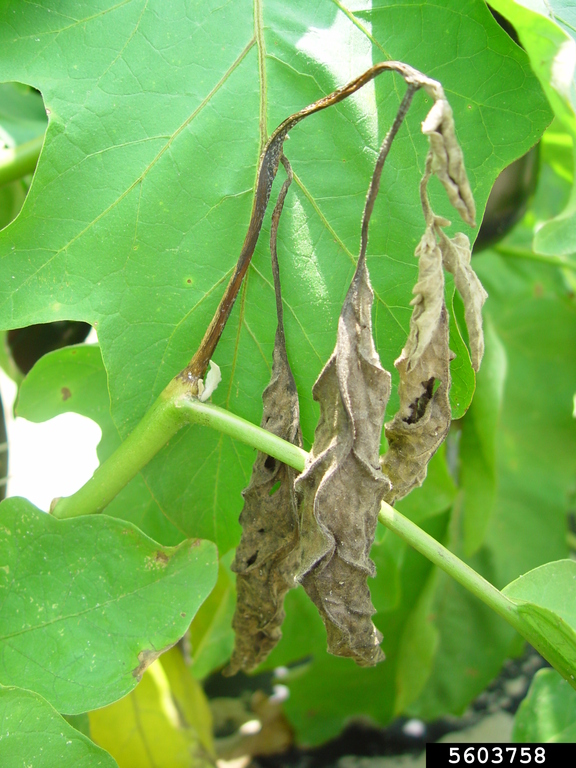Eggplant_PhytophthoraBlight: (235, 61, 487, 710)
